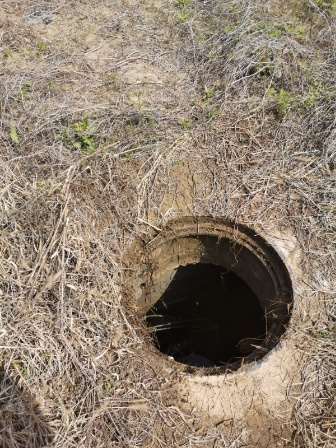lose: (121, 215, 296, 376)
